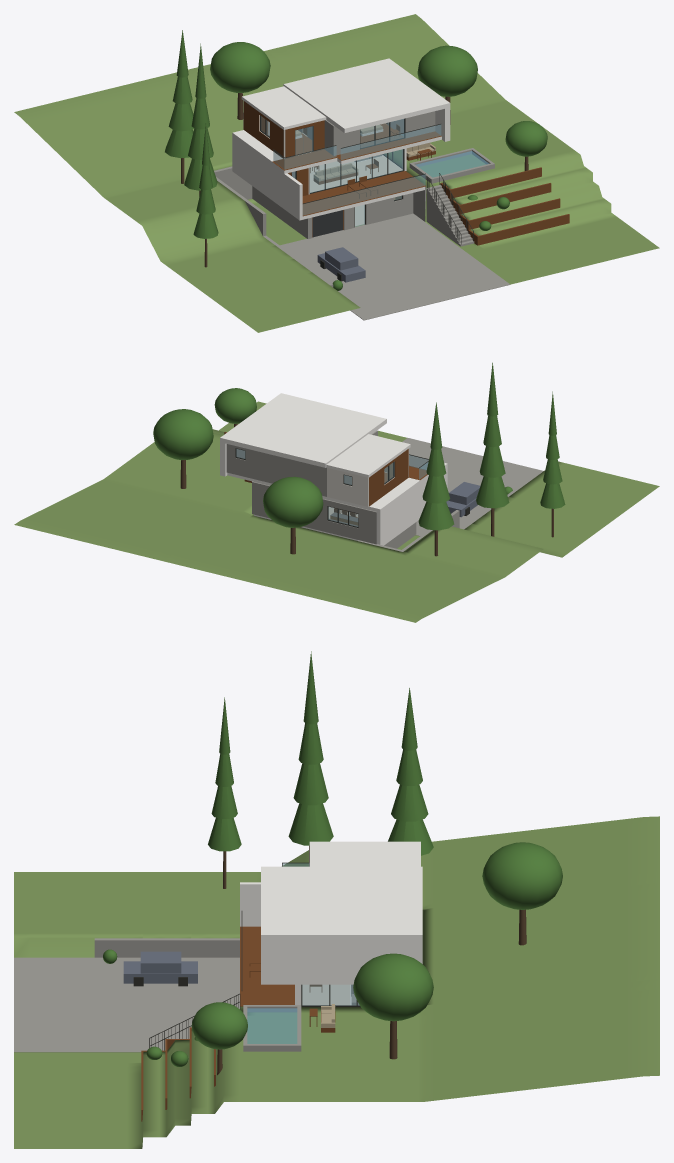
Rendered from contemporary.glb.
The picture shows the model from 3 angles, top to bottom: view 1: azimuth 30°, elevation 25°; view 2: azimuth 150°, elevation 25°; view 3: azimuth 270°, elevation 25°; orthographic projection. The views are drawn at different scales.
Parts seen in each view (by area): view 1: Site, Drive, concrete, Tree (×8), Master suite roof, Wall (×5), Terrace wall, timber (×4), Glass rail (×3), Glazing (×2), Terrace, Timber box roof, Balcony (×2), Upper floor slab (+9 smaller); view 2: Site, Tree (×11), Master suite roof, Wall (×7), Drive, concrete, Timber box roof, Upper floor slab, Timber boards (×2), Frame fin, master suite, Car, Glazing; view 3: Site, Tree (×10), Drive, concrete, Master suite roof, Frame fin, master suite, Timber box roof, Retaining wall, the drive, Terrace, Car (×2), Pool water, Glazing, Living (+1 smaller).
Part boxes in pixels (x1,y1,x2,y2): Site: (14, 14, 659, 332); Drive, concrete: (280, 213, 510, 320); Tree (×8): (165, 42, 547, 238); Master suite roof: (283, 58, 450, 133); Wall (×5): (232, 111, 435, 238); Terrace wall, timber (×4): (449, 167, 569, 245); Glass rail (×3): (284, 124, 441, 215); Glazing (×2): (310, 119, 404, 192); Terrace: (302, 171, 425, 216); Timber box roof: (241, 86, 326, 129); Balcony (×2): (272, 131, 441, 170); Upper floor slab: (232, 130, 441, 173); Site: (14, 401, 659, 622); Tree (×11): (153, 388, 565, 530); Master suite roof: (225, 393, 386, 467); Wall (×7): (245, 448, 447, 544); Drive, concrete: (402, 438, 543, 536); Timber box roof: (326, 434, 410, 477); Upper floor slab: (227, 472, 428, 512); Timber boards (×2): (369, 449, 408, 506); Frame fin, master suite: (220, 393, 285, 476); Car: (448, 482, 480, 505); Glazing: (328, 507, 358, 526); Site: (14, 816, 659, 1148); Tree (×10): (191, 723, 562, 1049); Drive, concrete: (14, 957, 239, 1052); Master suite roof: (261, 866, 422, 940); Frame fin, master suite: (261, 933, 422, 984); Timber box roof: (309, 841, 420, 866); Retaining wall, the drive: (94, 938, 239, 957); Terrace: (240, 926, 294, 1006); Car (×2): (123, 951, 197, 983); Pool water: (247, 1008, 297, 1043); Glazing: (302, 984, 359, 1005); Living: (302, 984, 349, 1005).
Size of the model in its own units: 38 by 19.03 by 40.
